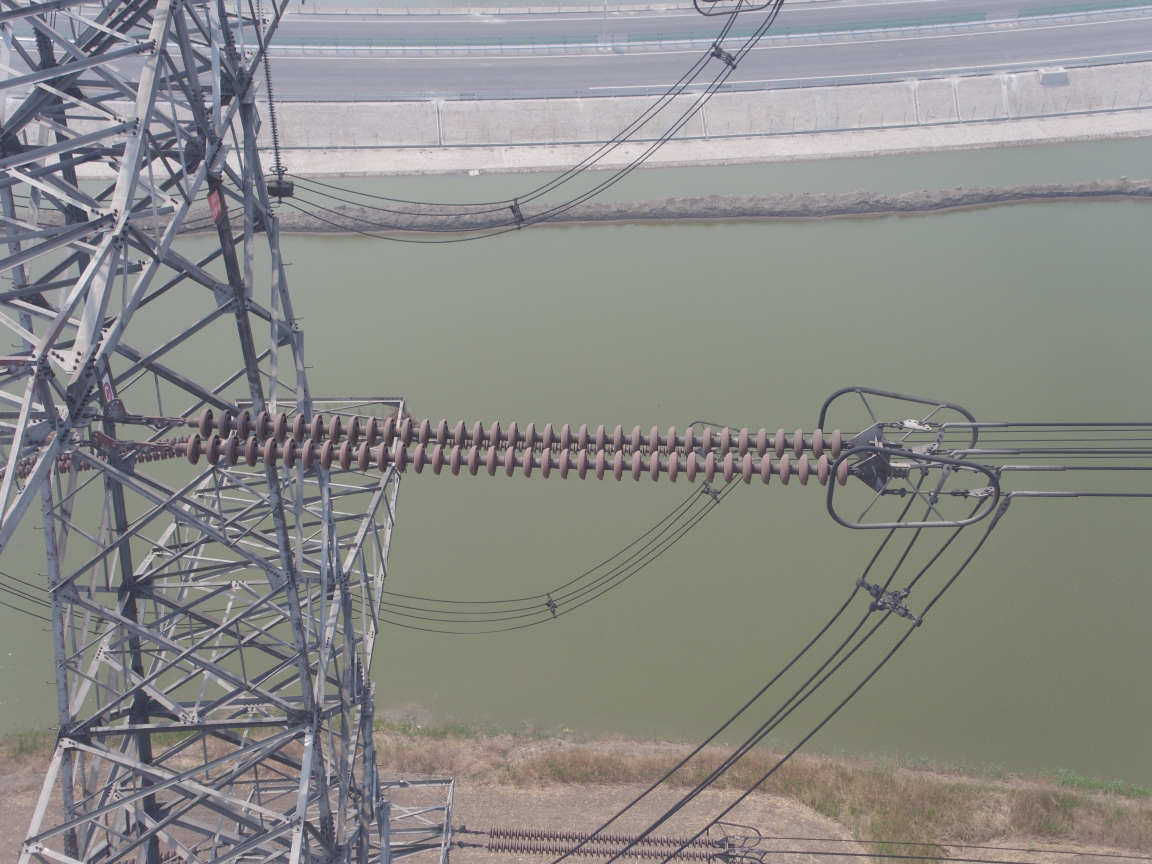insulator: (150, 403, 868, 487)
